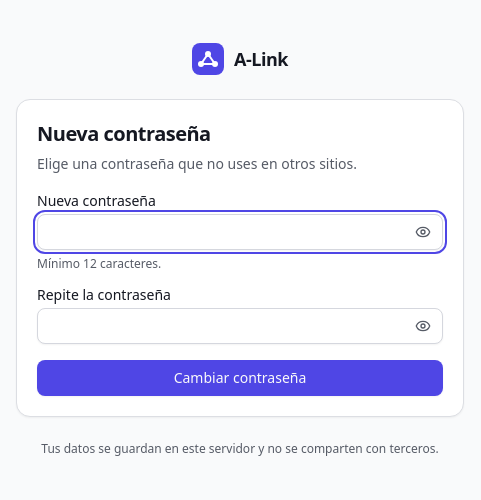
Scenario: ResetPasswordPage › token inválido o caducado: muestra el mensaje del servidor
Type "Una-Frase-Larga-2026!" into the password field labelled "Nueva contraseña".
click(240, 232); type("Una-Frase-Larga-2026!")  # box [37,214,443,250]
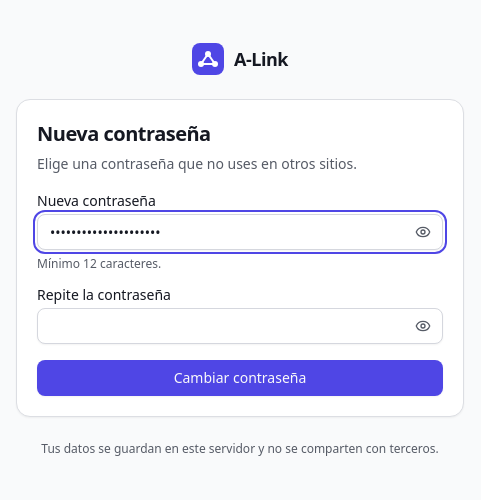
Type "Una-Frase-Larga-2026!" into the password field labelled "Repite la contraseña".
click(240, 326); type("Una-Frase-Larga-2026!")  # box [37,308,443,344]
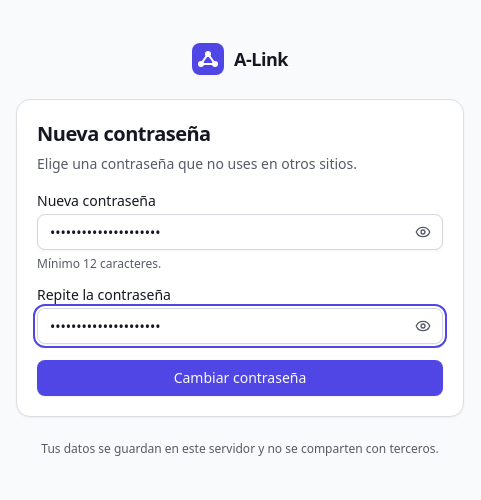
Click the button "Cambiar contraseña".
click(240, 378)  # box [37,360,443,396]
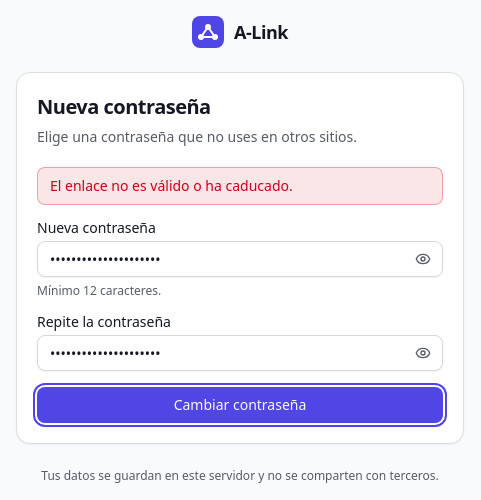
Now the text "El enlace no es válido o ha caducado." is shown, box [37,167,443,205]
